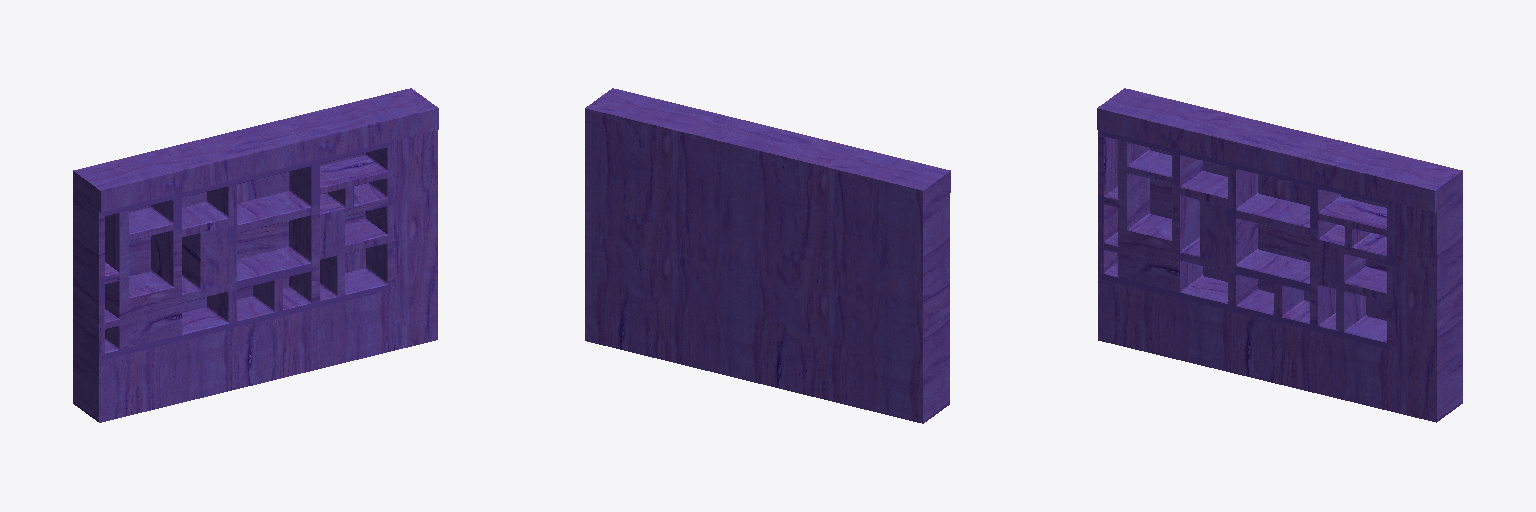
3 views of the same model, side by side, from view 1: azimuth 30°, elevation 25°; view 2: azimuth 150°, elevation 25°; view 3: azimuth 330°, elevation 25° (orthographic).
Parts seen in each view (by area): view 1: muebles:polySurface4; view 2: muebles:polySurface4; view 3: muebles:polySurface4.
Boxes of the visible parts, box(x1,y1,x2,y2) form: muebles:polySurface4: box(73, 88, 438, 422); muebles:polySurface4: box(585, 88, 950, 423); muebles:polySurface4: box(1097, 88, 1462, 422).
Size of the model in its own units: 1.62 by 1.07 by 0.2285.
Materials: 1 (1 with a texture image).